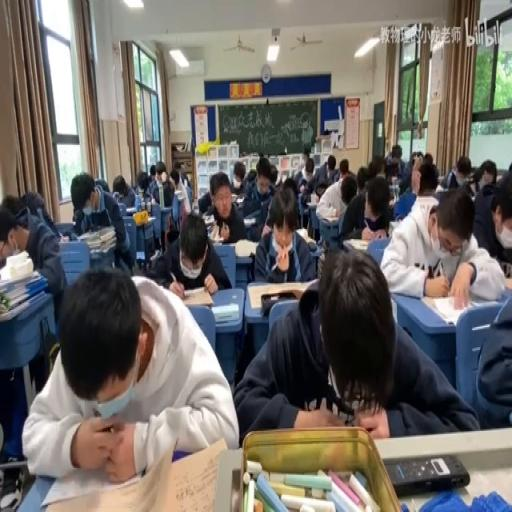calculator: (246, 280, 310, 309), (424, 294, 478, 326), (77, 226, 115, 252), (180, 286, 214, 307), (212, 300, 238, 322), (234, 236, 256, 256), (129, 212, 157, 227), (294, 225, 314, 243), (345, 238, 370, 250), (499, 273, 512, 292), (387, 219, 401, 235), (318, 212, 340, 222), (173, 188, 185, 200), (205, 219, 215, 233), (242, 214, 256, 224), (234, 195, 246, 205), (208, 235, 222, 243), (125, 205, 136, 215), (149, 247, 158, 259), (308, 198, 318, 206), (59, 234, 69, 242)
paper: (26, 263, 236, 487), (234, 244, 470, 440), (379, 181, 504, 304), (0, 193, 65, 313), (148, 210, 229, 293), (469, 277, 510, 427), (252, 189, 314, 282), (338, 169, 386, 246), (197, 171, 226, 219), (149, 161, 175, 206), (294, 155, 318, 199), (442, 155, 472, 189), (382, 144, 405, 186), (414, 160, 438, 194), (22, 192, 48, 222), (0, 192, 25, 222), (113, 172, 135, 206), (226, 161, 248, 195), (478, 158, 496, 186), (368, 155, 386, 182), (130, 170, 146, 194), (282, 176, 298, 198), (356, 164, 368, 192), (94, 176, 110, 194), (340, 186, 354, 205), (466, 172, 480, 191), (178, 164, 190, 186), (169, 168, 180, 189), (267, 163, 277, 185), (338, 158, 348, 180), (316, 180, 327, 198), (243, 168, 256, 183), (410, 149, 422, 165), (327, 155, 336, 172), (423, 150, 433, 164), (497, 169, 507, 182), (149, 162, 156, 179), (302, 168, 312, 179), (300, 158, 306, 169), (300, 181, 306, 192)
person: (384, 452, 470, 494)
